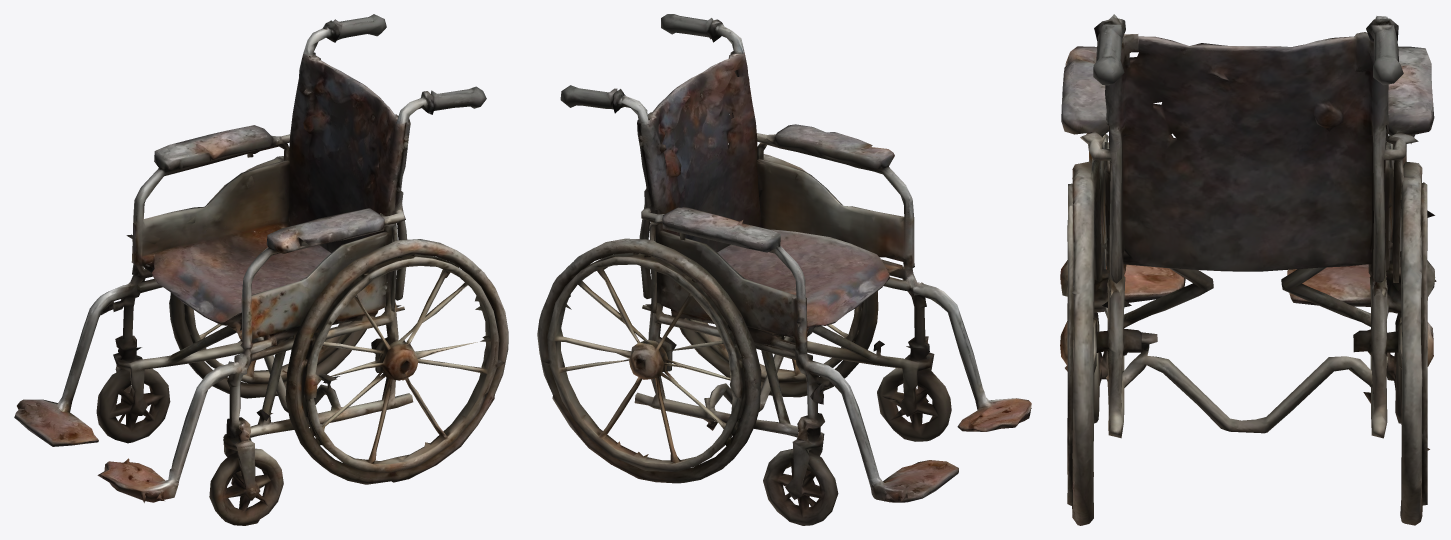
File: tripo_convert_f5961dbf-2681-444f-a489-221b07549a0f.fbx
3 renders of one model, left to right at view 1: azimuth 30°, elevation 25°; view 2: azimuth 150°, elevation 25°; view 3: azimuth 270°, elevation 25°, orthographic. The views are drawn at different scales.
Visible parts, largest first — view 1: tripo_node_f5961dbf; view 2: tripo_node_f5961dbf; view 3: tripo_node_f5961dbf.
Boxes of the visible parts, x1=… form: tripo_node_f5961dbf: x1=14, y1=14, x2=508, y2=525; tripo_node_f5961dbf: x1=537, y1=14, x2=1031, y2=525; tripo_node_f5961dbf: x1=1060, y1=14, x2=1436, y2=525.
Bounding box in the file's own units: 1 × 0.9421 × 0.6042.
Materials: 1 (1 with a texture image).
